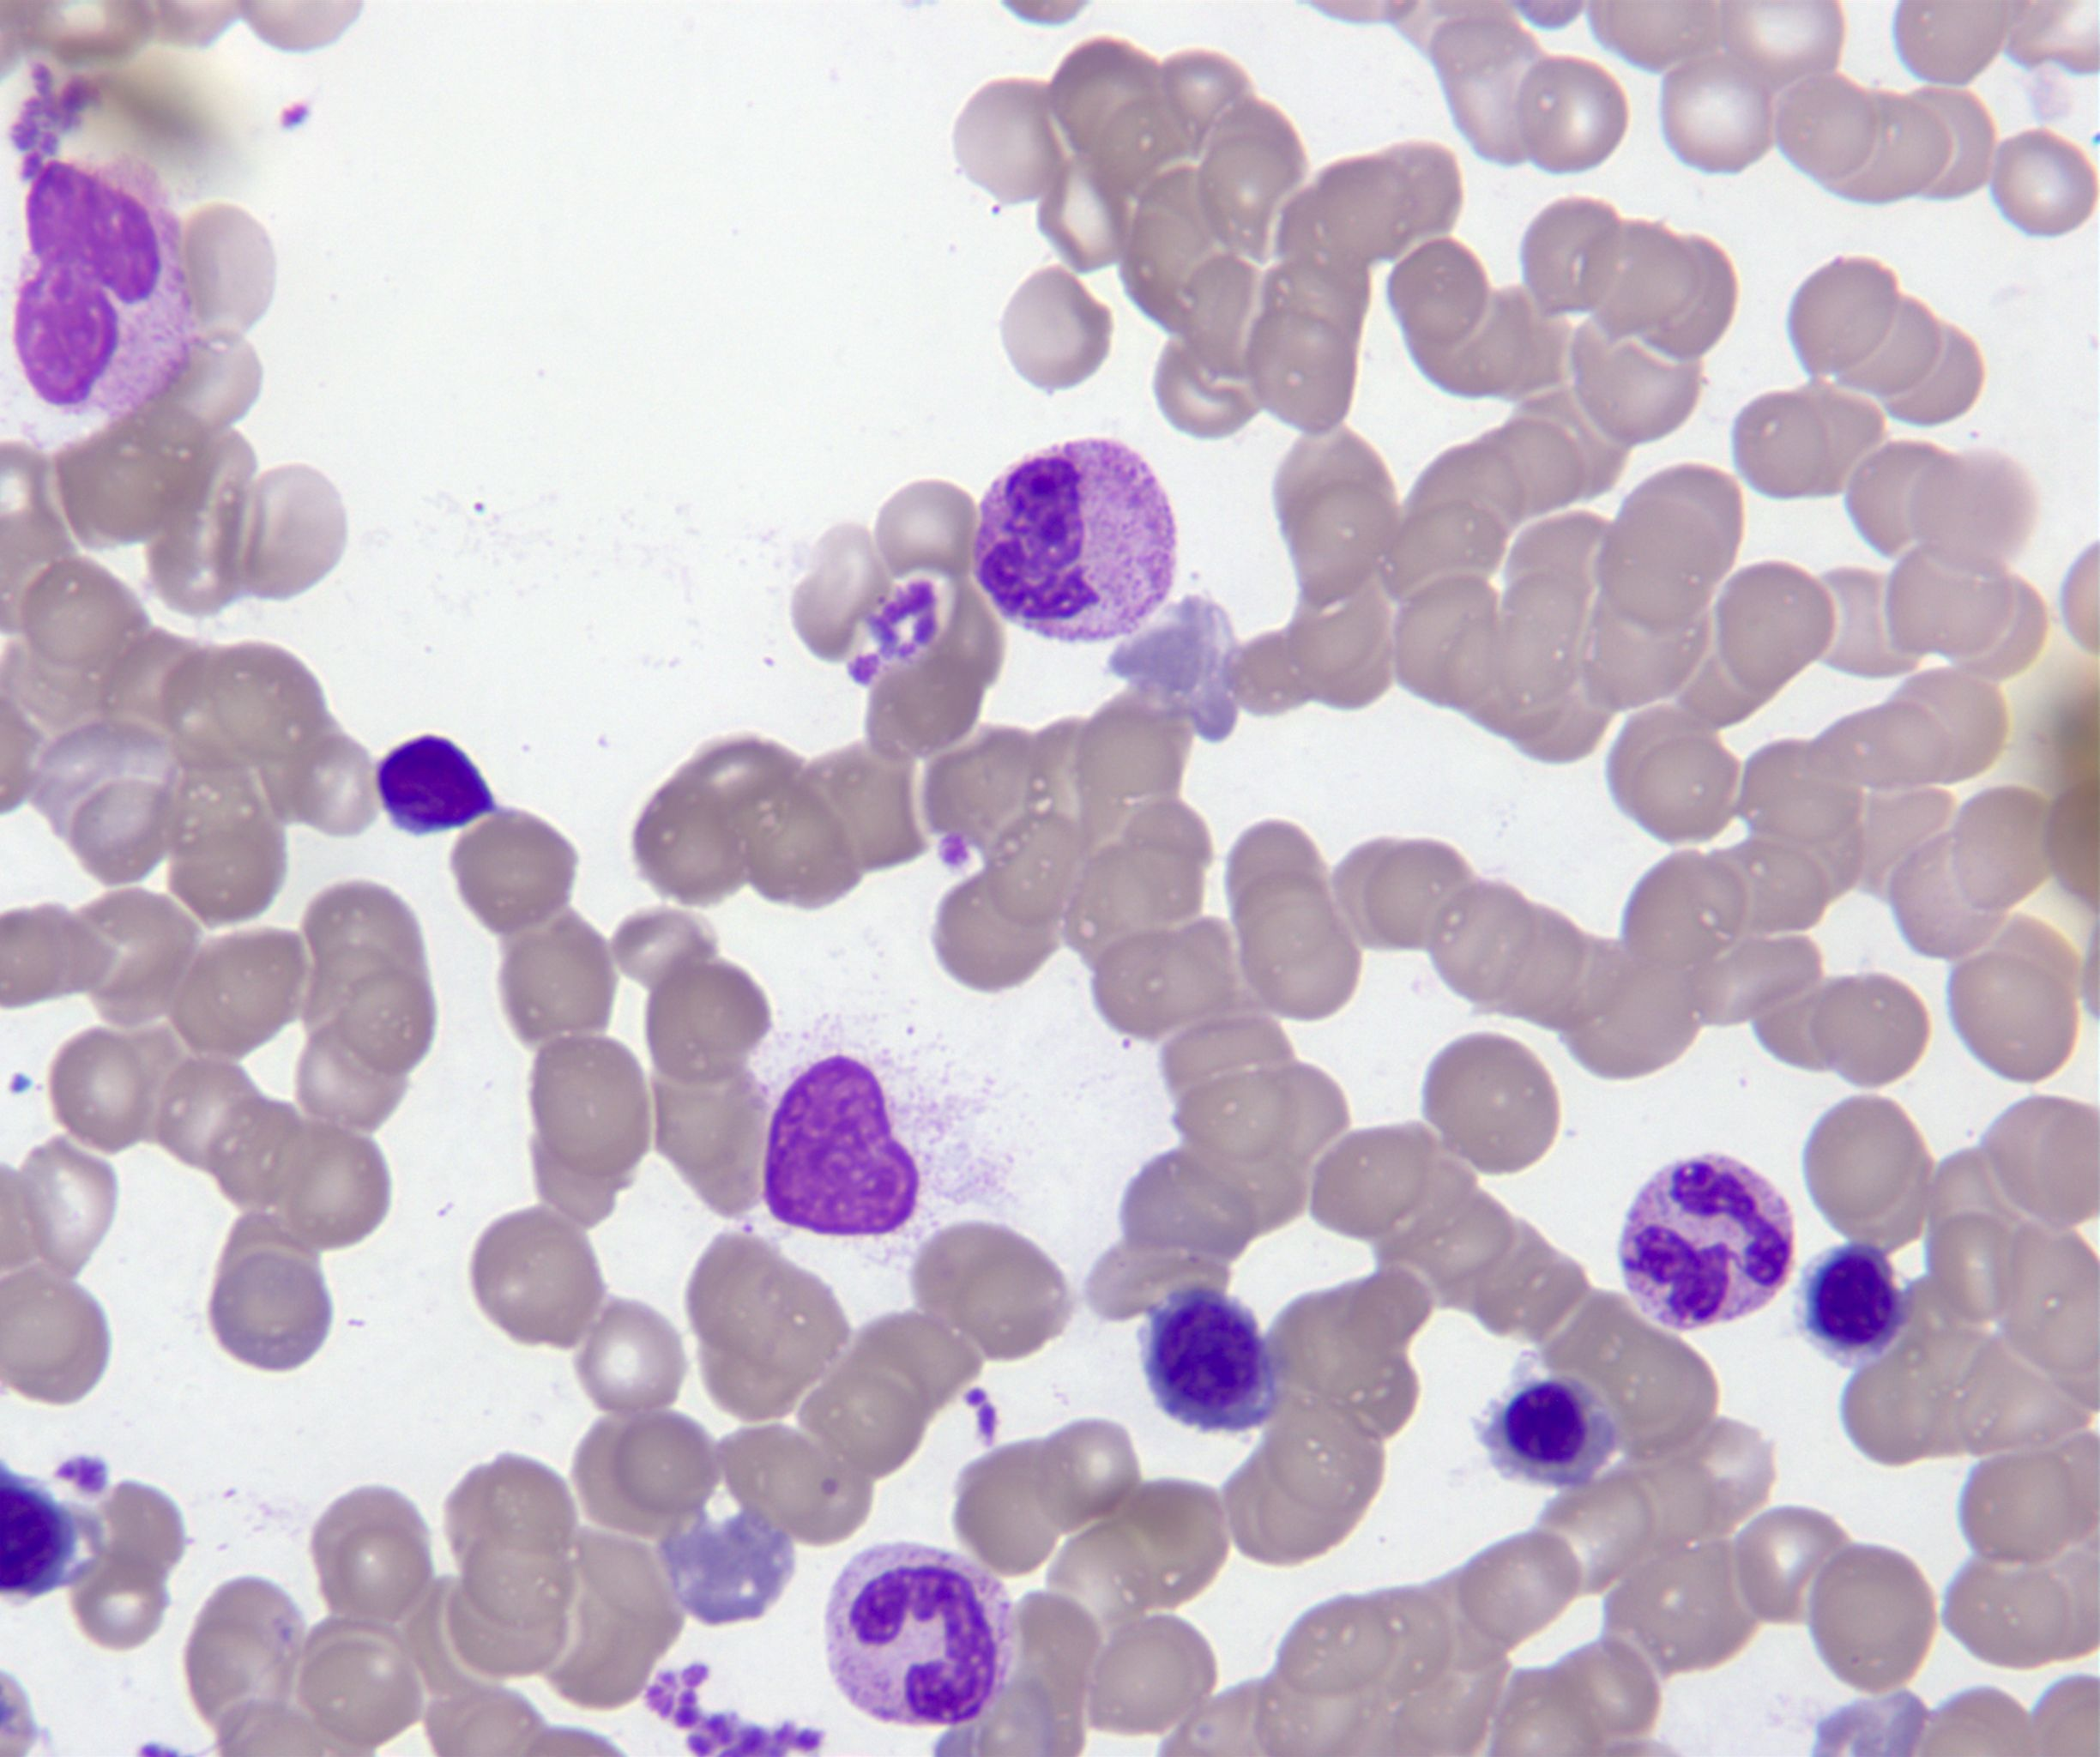24: (1135, 1279, 1284, 1438), (1472, 1371, 1620, 1488), (1798, 1239, 1908, 1366)
32: (368, 729, 501, 841)
4: (0, 1464, 80, 1607)
5: (822, 1537, 1026, 1733)
6: (968, 429, 1184, 646), (1615, 1148, 1798, 1337)
x: (9, 157, 208, 427), (755, 1047, 923, 1241)
